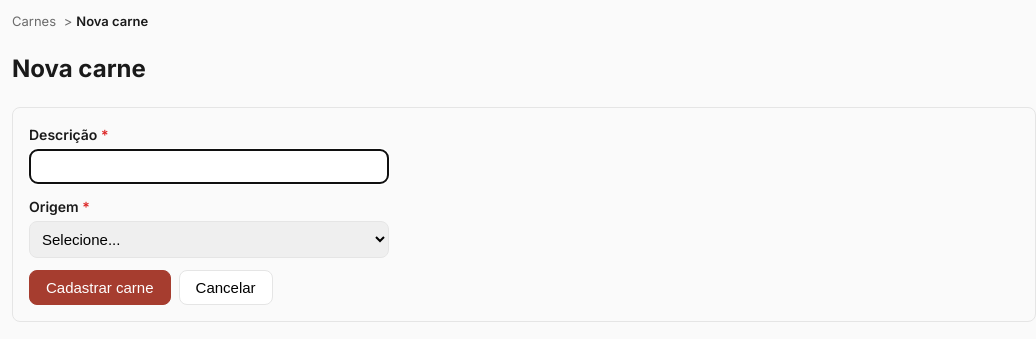
Test: CarneFormPage - LoadingButton (T76) › mostra spinner e desabilita botão durante submissão
This screenshot has width=1036, height=339.
Step 1. Type "Alcatra" into the field labelled "Descrição *" → [209, 167], box x1=29 y1=149 x2=389 y2=184
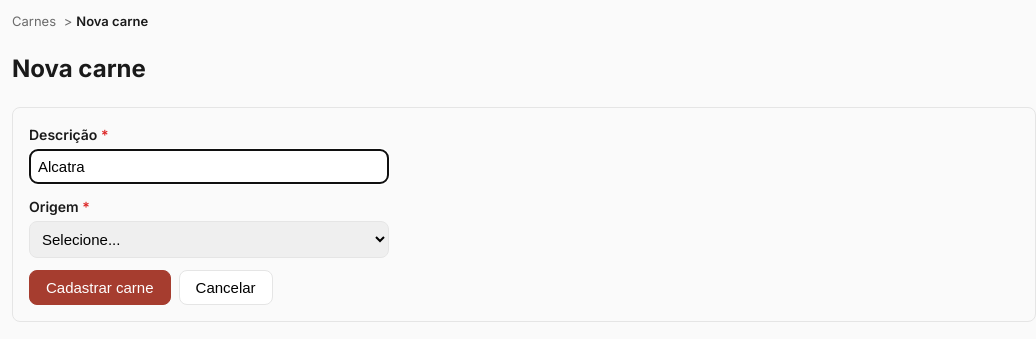
Step 2. Select "Suína" in the dropdown labelled "Origem *" → [209, 240], box x1=29 y1=221 x2=389 y2=258
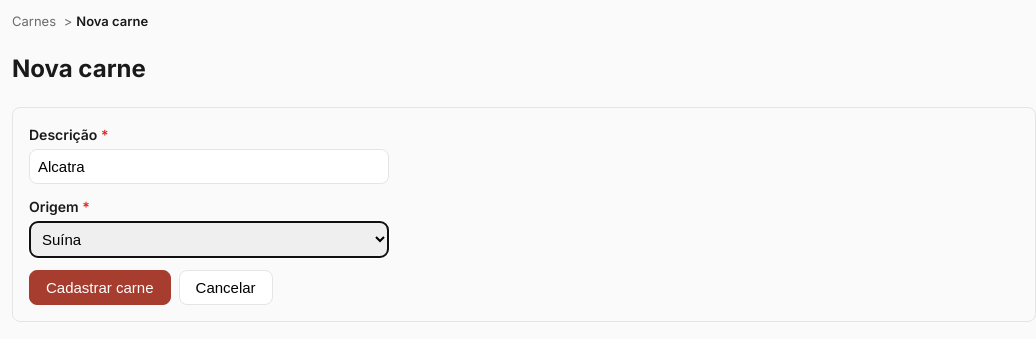
Step 3. Click the button "Cadastrar carne" → [100, 288], box x1=29 y1=270 x2=171 y2=305
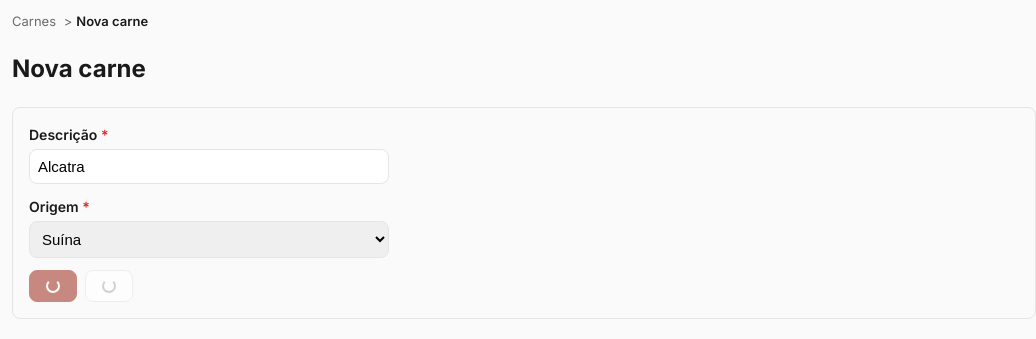
Now the 1st button named "Cadastrar carne" is disabled, box x1=29 y1=270 x2=77 y2=302
Now the 1st element with class "loading-button__spinner" is shown, box x1=46 y1=279 x2=60 y2=293
